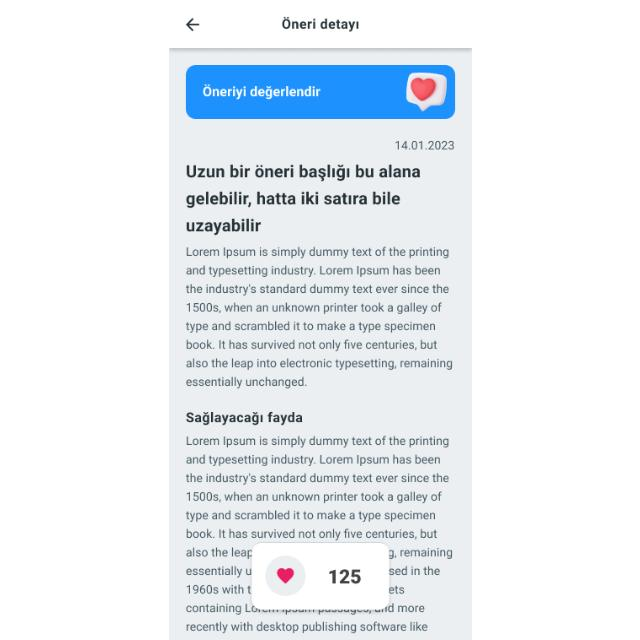QLabel: (176, 432, 457, 634), (177, 247, 456, 389), (180, 161, 424, 235), (200, 84, 320, 100), (184, 410, 302, 424), (278, 16, 360, 32), (395, 139, 457, 153), (326, 566, 364, 588)
VAppBar: (168, 0, 472, 48)
VCard: (184, 65, 456, 119), (251, 542, 389, 610)
VIcon: (183, 18, 199, 32)
VImg: (262, 552, 306, 600), (403, 71, 449, 115)
